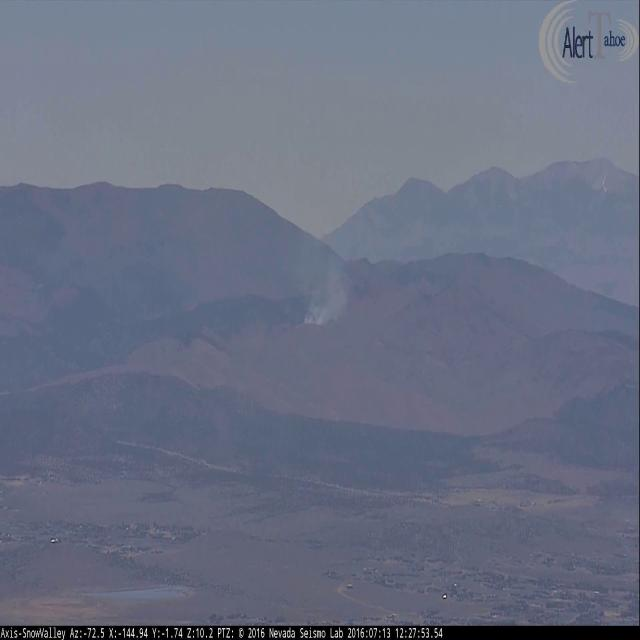smoke: (294, 228, 351, 327)
